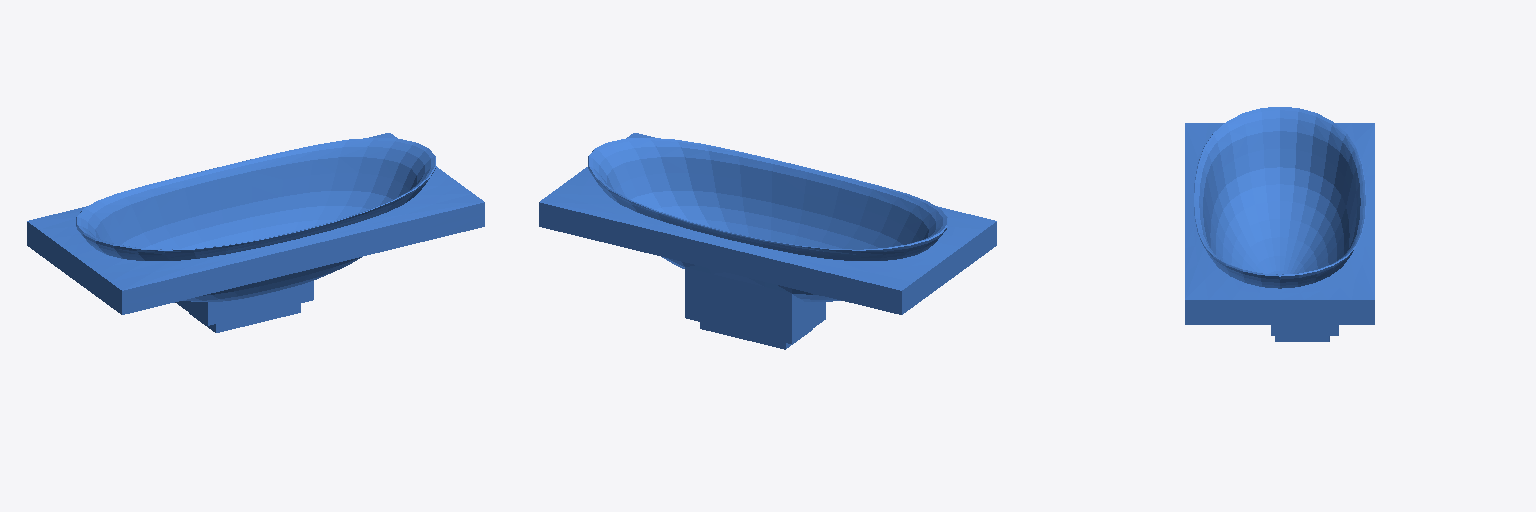
File: VASCA.obj
The picture shows the model from 3 angles: view 1: azimuth 30°, elevation 25°; view 2: azimuth 150°, elevation 25°; view 3: azimuth 270°, elevation 25°; orthographic projection.
Parts seen in each view (by area): view 1: Plane011, Object002; view 2: Plane011, Object002; view 3: Plane011, Object002.
Boxes of the visible parts, <box> form: Plane011: <box>76,138,436,332</box>; Object002: <box>27,133,484,314</box>; Plane011: <box>588,138,947,349</box>; Object002: <box>539,133,996,314</box>; Plane011: <box>1194,107,1365,341</box>; Object002: <box>1185,123,1374,324</box>.
Bounding box in the file's own units: 23.28 × 8.02 × 10.6.